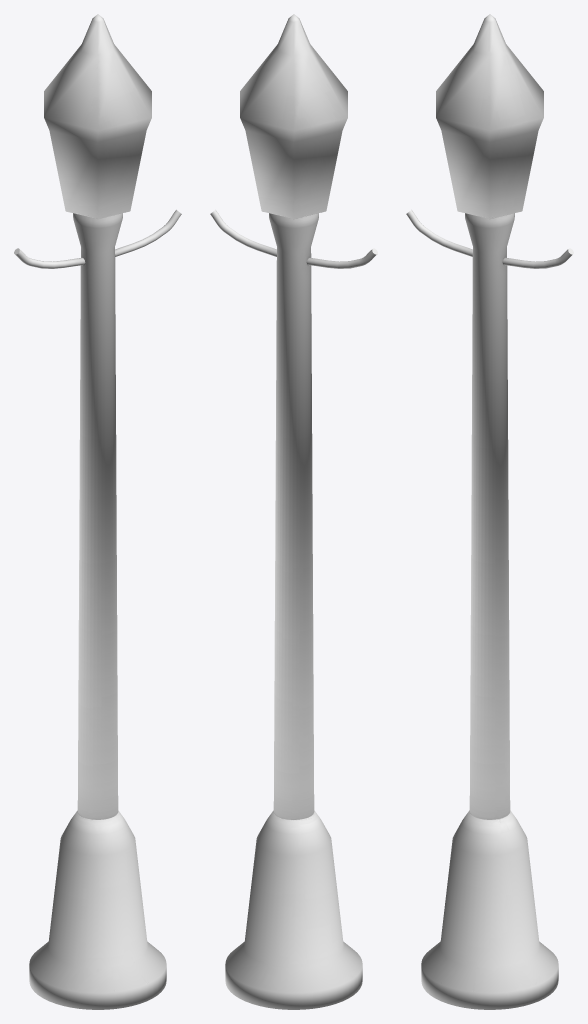
Rendered from victorian-black.glb.
3 views of the same model, side by side, from view 1: azimuth 30°, elevation 25°; view 2: azimuth 150°, elevation 25°; view 3: azimuth 330°, elevation 25° (orthographic).
Visible parts, largest first — view 1: paint_primary; view 2: paint_primary; view 3: paint_primary.
Boxes of the visible parts, <box> form: paint_primary: <box>14,14,181,1009</box>; paint_primary: <box>210,14,377,1009</box>; paint_primary: <box>406,14,573,1009</box>.
Size of the model in its own units: 0.6162 by 3.42 by 0.4401.
Materials: 2 (1 with a texture image).
